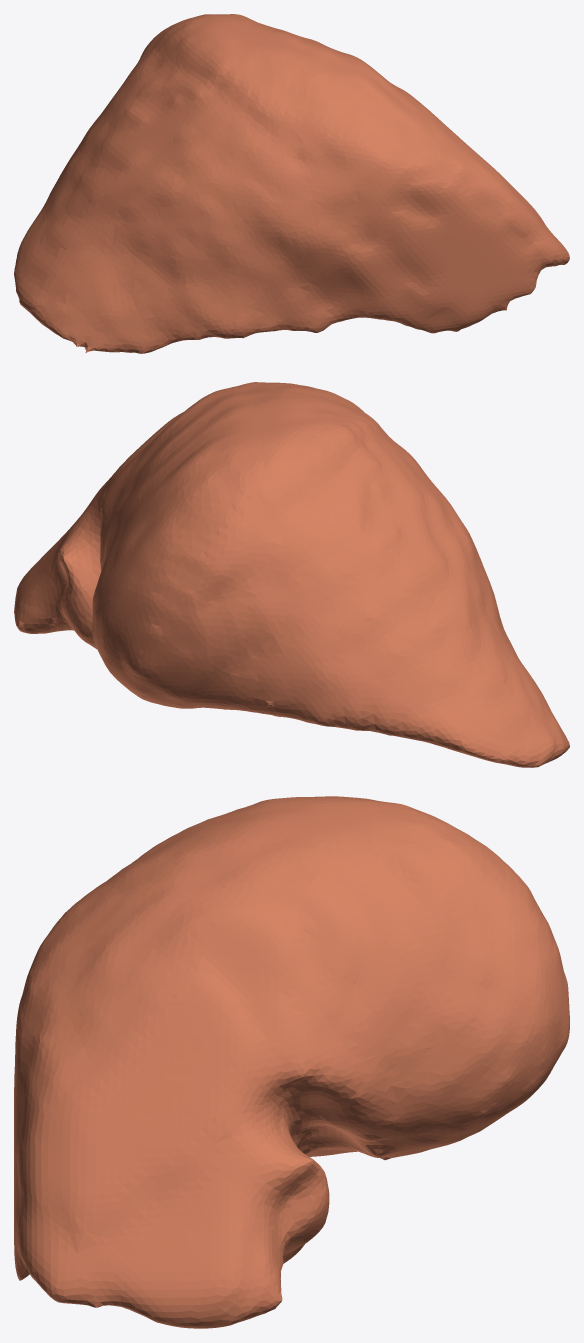
The model's file is liver.dae.
3 renders of one model, top to bottom at view 1: azimuth 30°, elevation 25°; view 2: azimuth 150°, elevation 25°; view 3: azimuth 270°, elevation 25°, orthographic. The views are drawn at different scales.
Parts seen in each view (by area): view 1: Liver; view 2: Liver; view 3: Liver.
Part boxes in pixels (<box>): Liver: <box>14,14,569,353</box>; Liver: <box>14,382,569,767</box>; Liver: <box>14,796,569,1328</box>.
Size of the model in its own units: 0.2417 by 0.173 by 0.1281.
